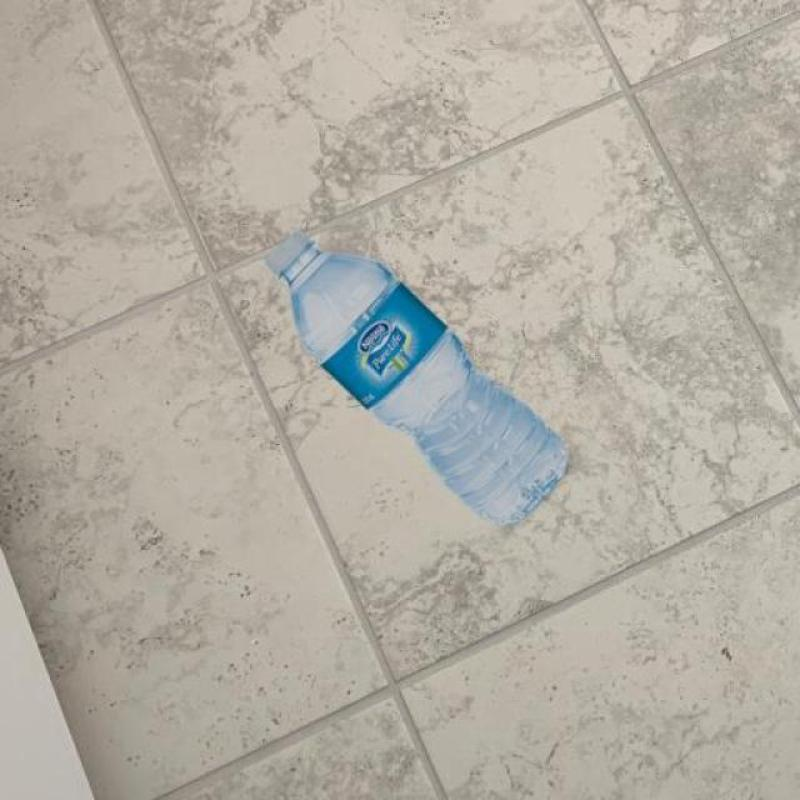botella: (264, 234, 568, 526)
